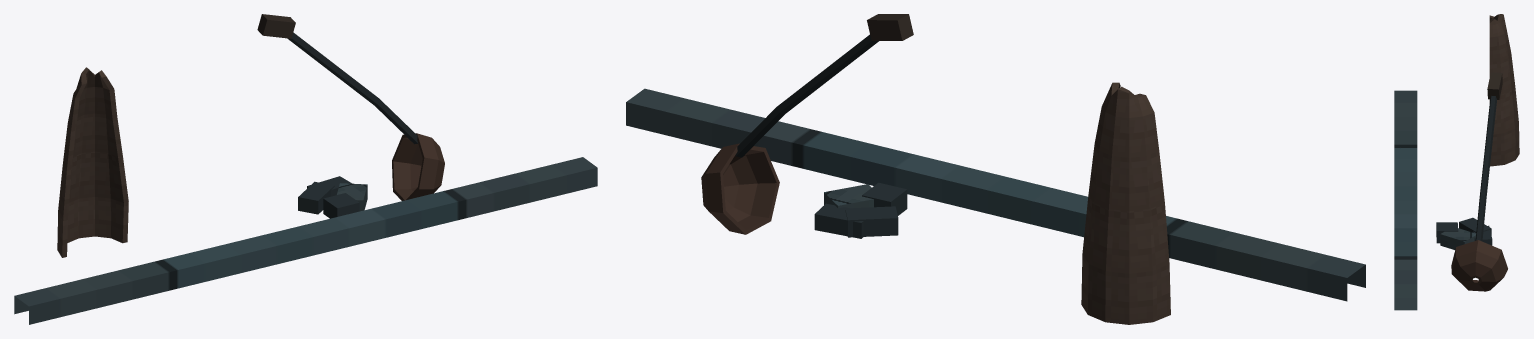
Rendered from T1_Lane_Start_C.fbx.
3 renders of one model, left to right at view 1: azimuth 30°, elevation 25°; view 2: azimuth 150°, elevation 25°; view 3: azimuth 270°, elevation 25°, orthographic. The views are drawn at different scales.
Visible parts, largest first — view 1: T1_Lane_Start_C; view 2: T1_Lane_Start_C; view 3: T1_Lane_Start_C.
Part boxes in pixels (<box>): T1_Lane_Start_C: <box>14,14,597,324</box>; T1_Lane_Start_C: <box>626,14,1365,324</box>; T1_Lane_Start_C: <box>1394,14,1519,310</box>.
Bounding box in the file's own units: 4.5 × 1.56 × 1.08.
